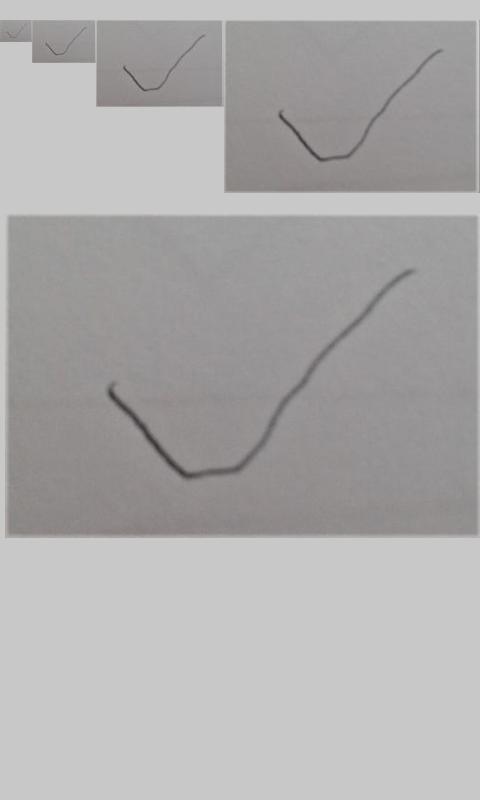check_box: (104, 268, 413, 483), (278, 49, 440, 163), (123, 34, 206, 92), (45, 27, 86, 56), (6, 24, 26, 39)
